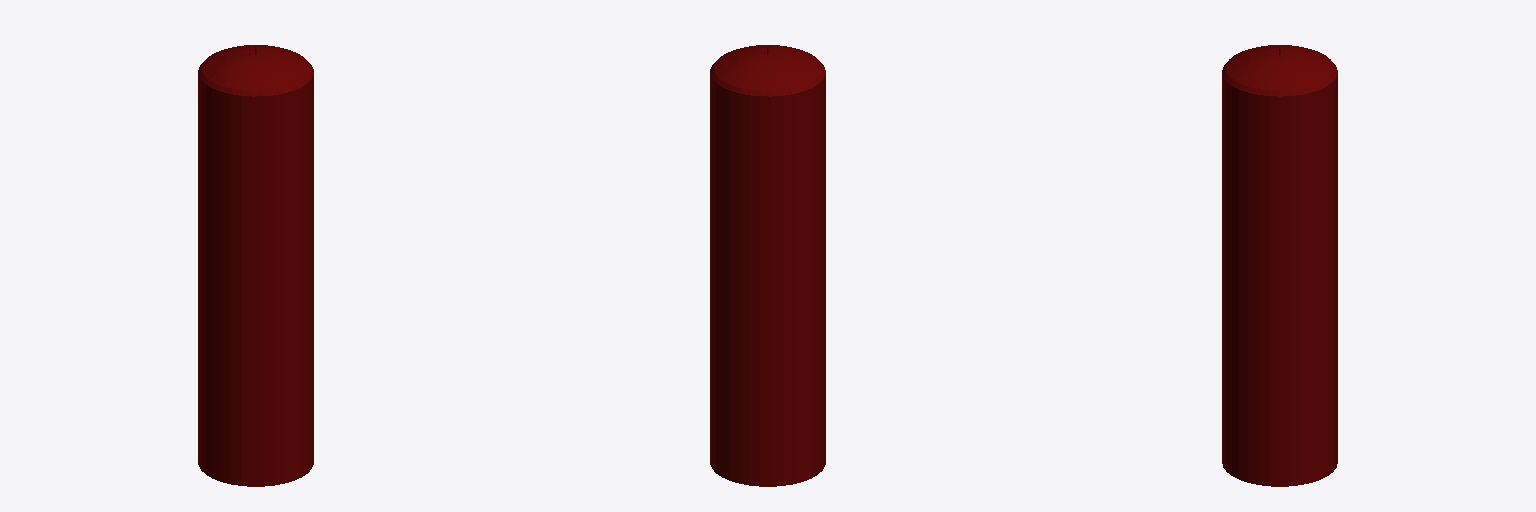
Rendered from candle.obj.
The picture shows the model from 3 angles: view 1: azimuth 30°, elevation 25°; view 2: azimuth 150°, elevation 25°; view 3: azimuth 270°, elevation 25°; orthographic projection.
Visible parts, largest first — view 1: candle_Cylinder.001; view 2: candle_Cylinder.001; view 3: candle_Cylinder.001.
Part boxes in pixels (x1,y1,x2,y2): candle_Cylinder.001: (198, 45, 313, 486); candle_Cylinder.001: (710, 45, 825, 486); candle_Cylinder.001: (1222, 45, 1337, 486).
Size of the model in its own units: 0.5458 by 2.18 by 0.5458.